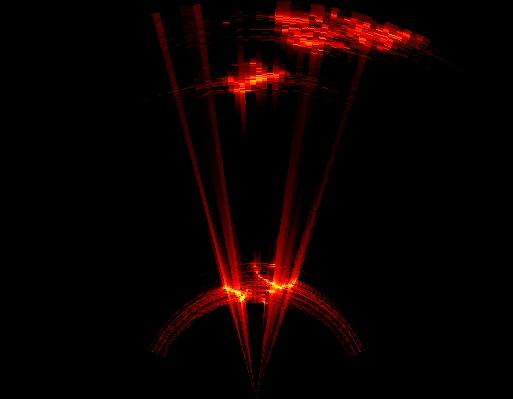shipwreck: (276, 11, 417, 49), (220, 263, 297, 300), (225, 71, 284, 88)
